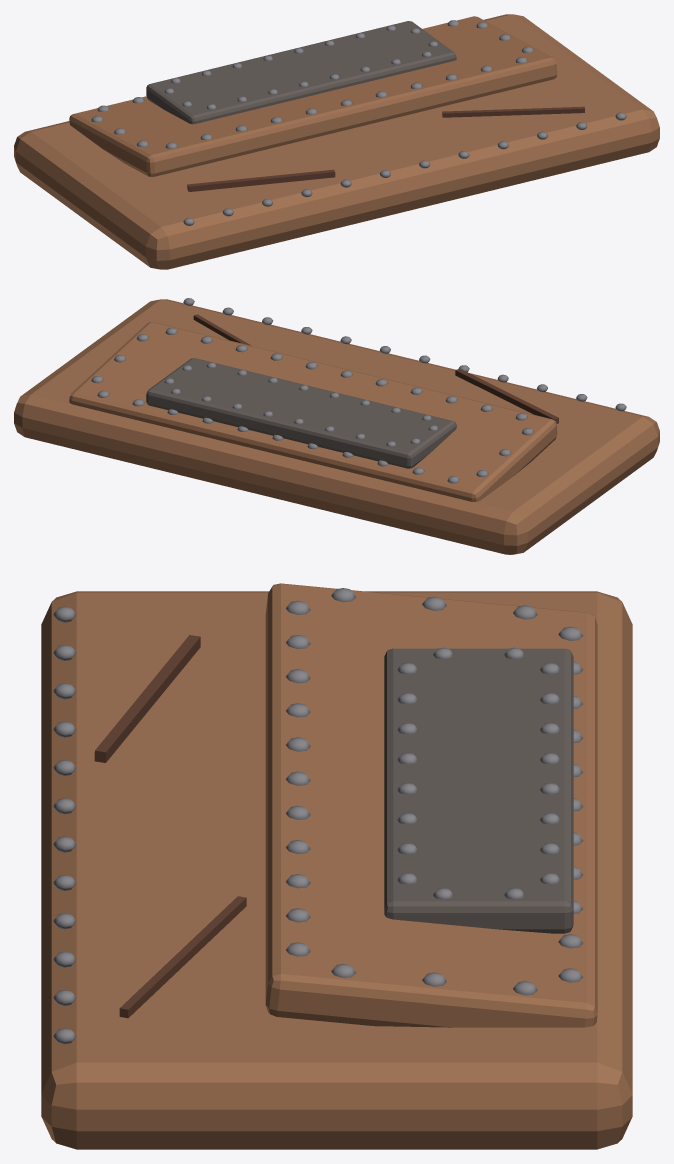
The model's file is gleaner_scale.glb.
3 renders of one model, top to bottom at view 1: azimuth 30°, elevation 25°; view 2: azimuth 150°, elevation 25°; view 3: azimuth 270°, elevation 25°, orthographic. The views are drawn at different scales.
Parts seen in each view (by area): view 1: gl_rust, gl_rust.001, gl_iron, gl_ember, gl_ember.001; view 2: gl_rust, gl_rust.001, gl_iron, gl_ember, gl_ember.001; view 3: gl_rust, gl_rust.001, gl_iron, gl_ember, gl_ember.001.
Boxes of the visible parts, <box> form: gl_rust: <box>14,14,659,269</box>; gl_rust.001: <box>69,16,557,177</box>; gl_iron: <box>146,21,456,124</box>; gl_ember: <box>187,169,335,191</box>; gl_ember.001: <box>442,106,584,117</box>; gl_rust: <box>14,299,659,554</box>; gl_rust.001: <box>69,322,557,501</box>; gl_iron: <box>146,358,456,468</box>; gl_ember: <box>455,368,558,423</box>; gl_ember.001: <box>193,314,251,345</box>; gl_rust: <box>41,591,632,1149</box>; gl_rust.001: <box>265,583,597,1027</box>; gl_iron: <box>384,648,573,933</box>; gl_ember: <box>94,635,200,762</box>; gl_ember.001: <box>119,896,246,1018</box>.
Bounding box in the file's own units: 50 × 6.72 × 25.
